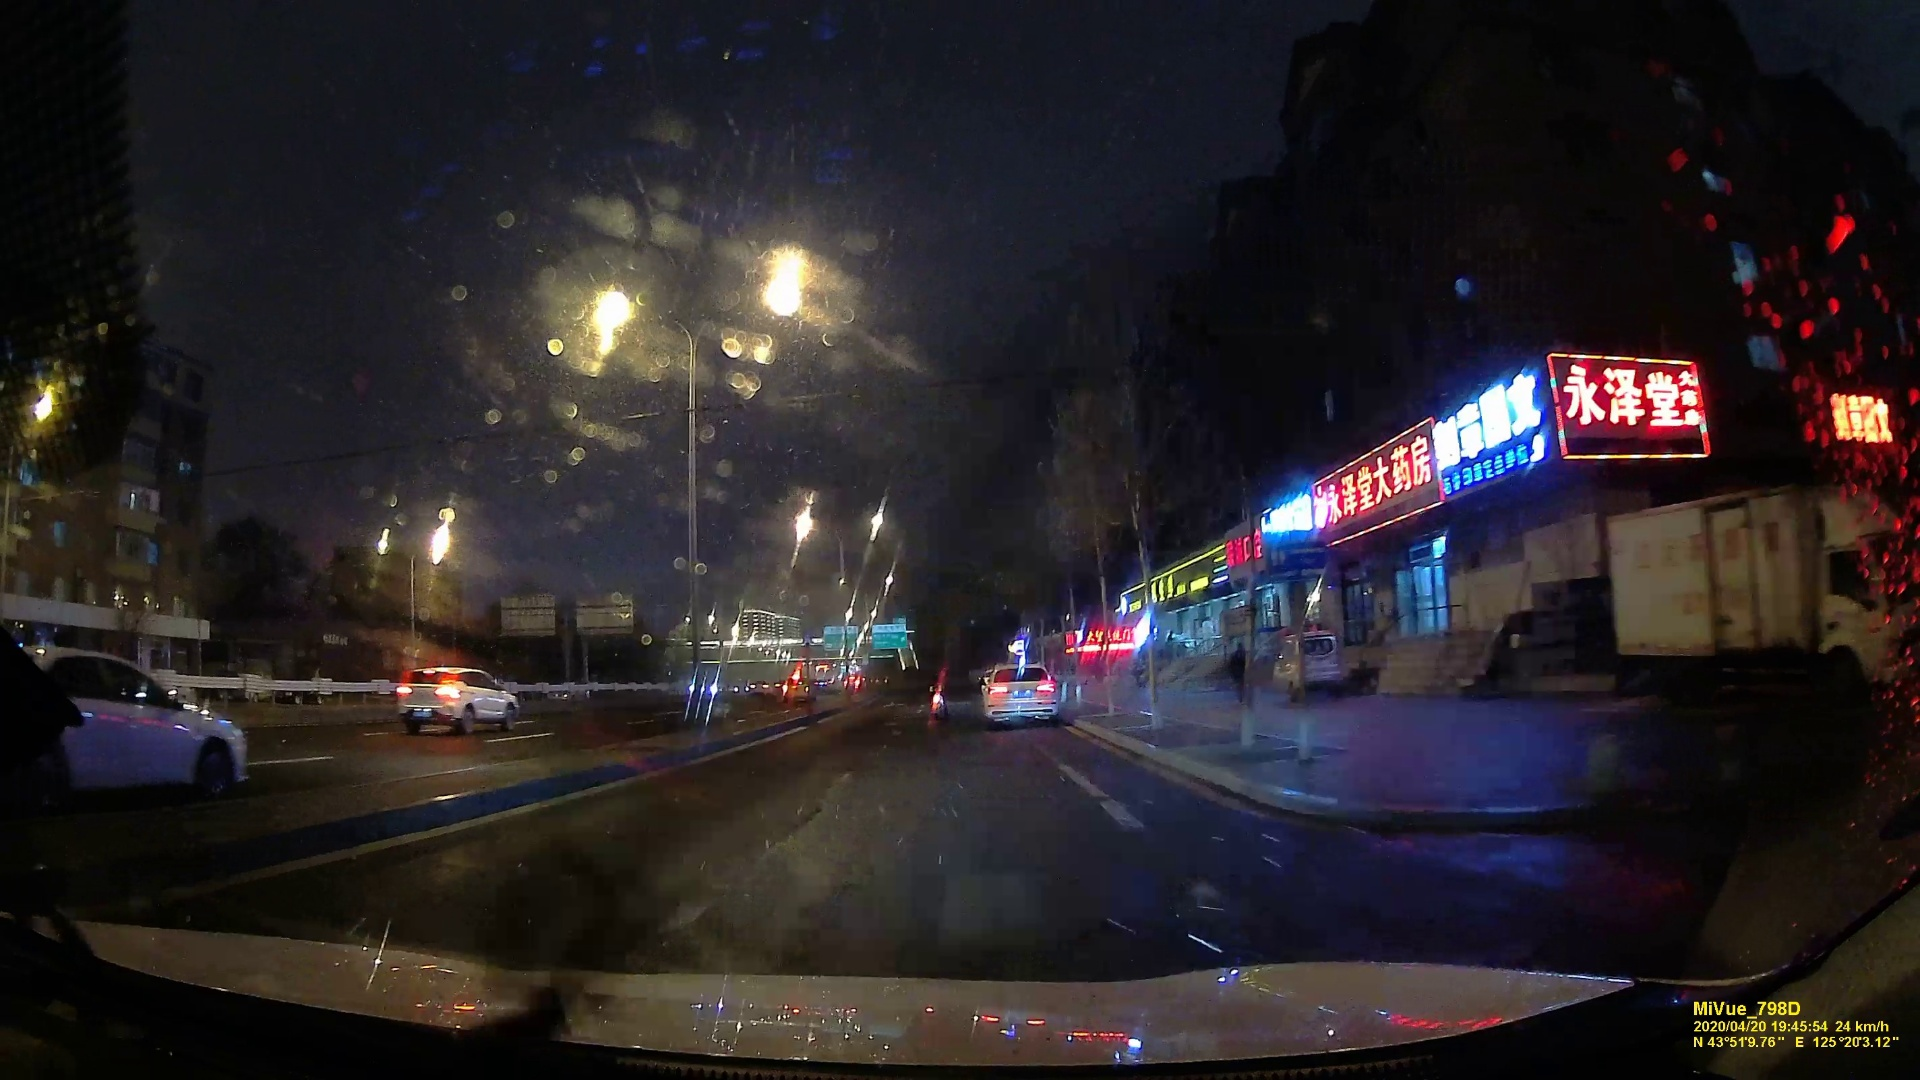person: (1227, 639, 1254, 708)
traffic_sign: (871, 625, 904, 648), (822, 626, 855, 647)
vehicle: (25, 640, 257, 808), (389, 663, 515, 734), (979, 663, 1063, 726)
